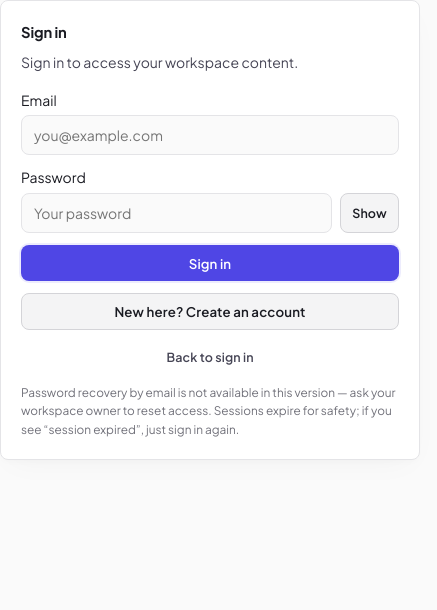
Test: LoginForm auth bootstrap › shows field-level validation for empty register fields
Click the button "New here? Create an account" at (210, 312), box [21, 294, 399, 330]
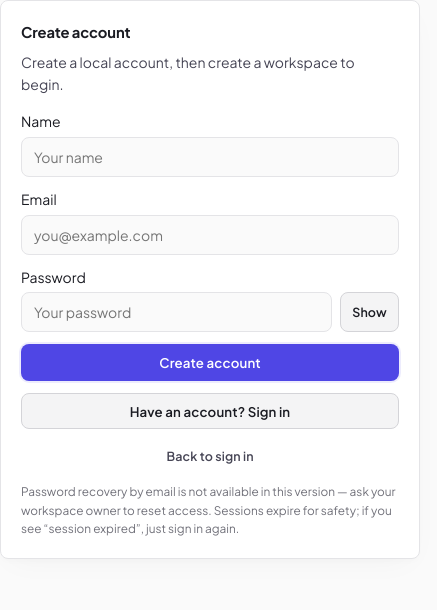
Click the button "Create account" at (210, 363), box [21, 344, 399, 381]
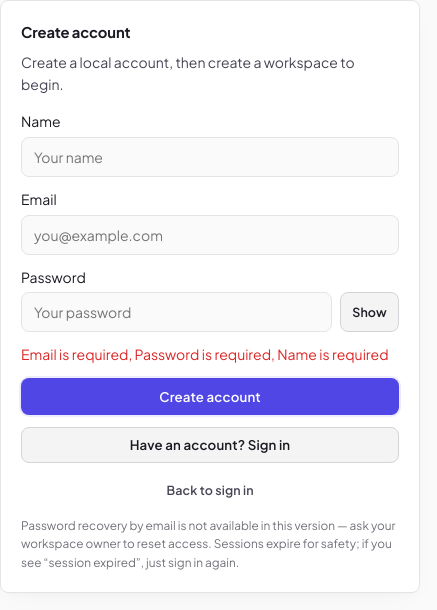
expect the text "Email is required, Password is required, Name is required" is shown: met, box [21, 344, 399, 366]
